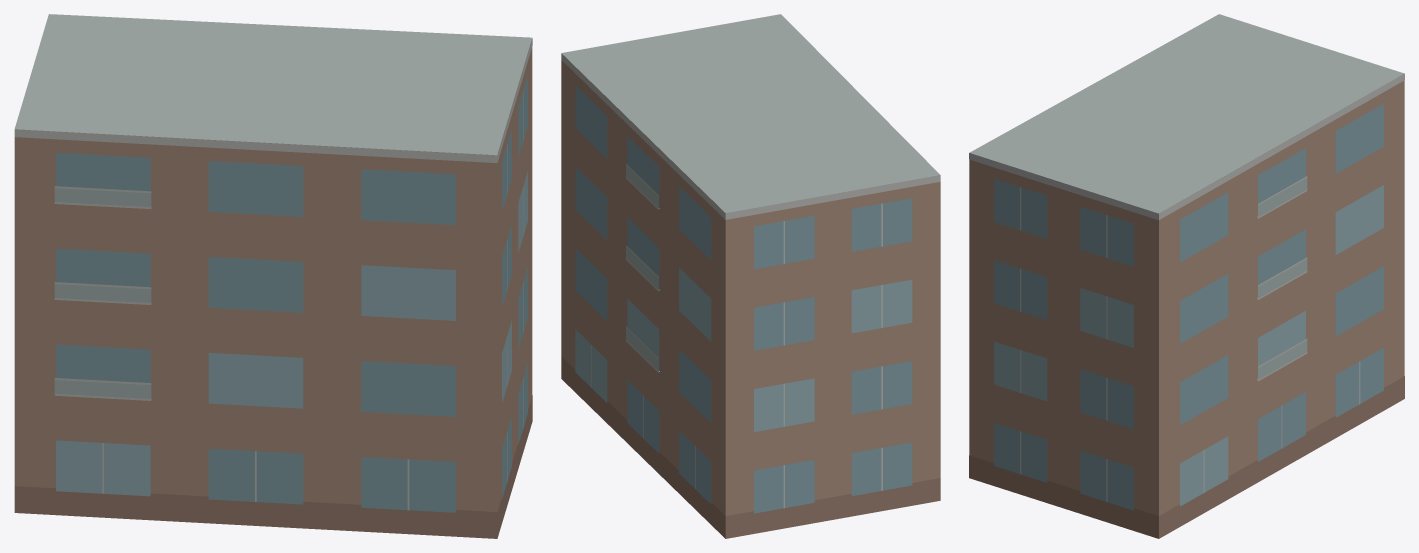
File: survey-upis-33046591.glb
3 views of the same model, side by side, from view 1: azimuth 30°, elevation 25°; view 2: azimuth 150°, elevation 25°; view 3: azimuth 270°, elevation 25° (orthographic). The views are drawn at different scales.
Parts seen in each view (by area): view 1: survey-upis-33046591.tmp; view 2: survey-upis-33046591.tmp; view 3: survey-upis-33046591.tmp.
Boxes of the visible parts, x1,y1,x2,y2 form: survey-upis-33046591.tmp: (14,14,532,538); survey-upis-33046591.tmp: (561,14,940,538); survey-upis-33046591.tmp: (969,14,1404,538).
Size of the model in its own units: 15.67 by 11.9 by 14.45.
